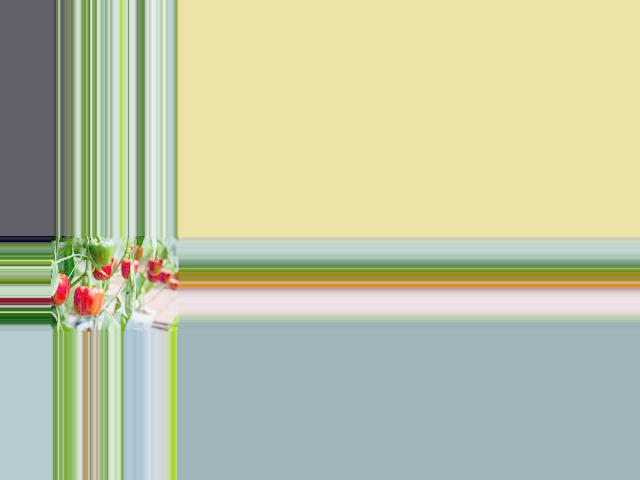bell_pepper: (121, 253, 140, 284)
